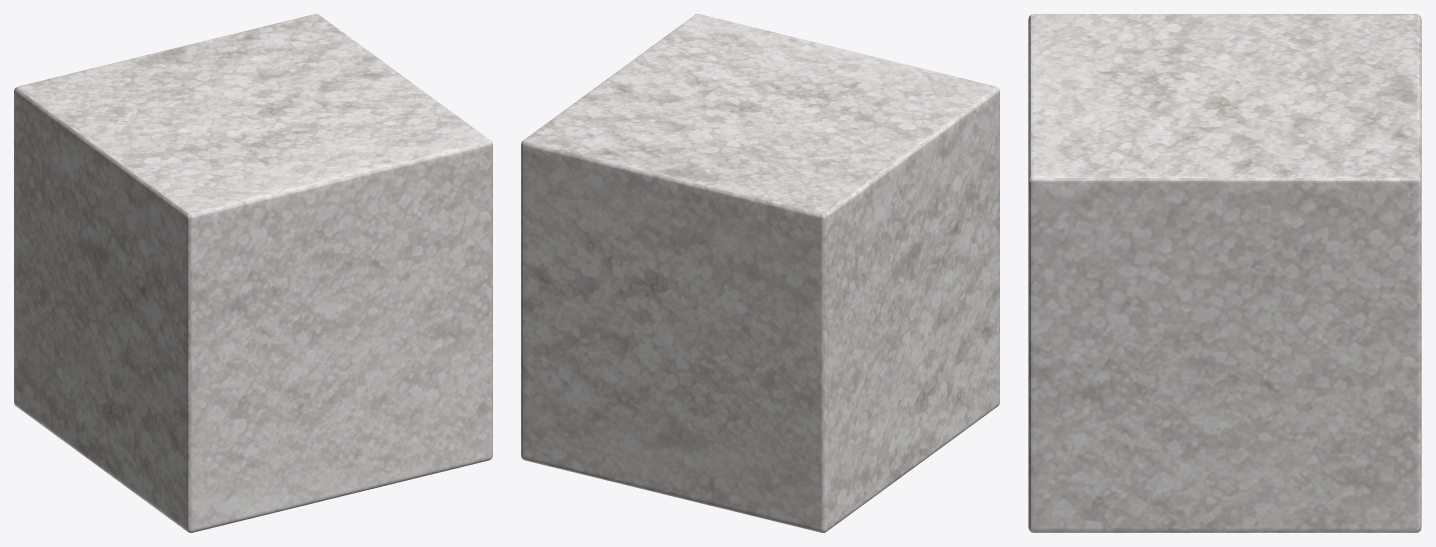
Rendered from Glucose.fbx.
The picture shows the model from 3 angles, left to right: view 1: azimuth 30°, elevation 25°; view 2: azimuth 150°, elevation 25°; view 3: azimuth 270°, elevation 25°; orthographic projection. The views are drawn at different scales.
Parts seen in each view (by area): view 1: Glucose; view 2: Glucose; view 3: Glucose.
Boxes of the visible parts, x1=… form: Glucose: x1=14, y1=14, x2=492, y2=532; Glucose: x1=521, y1=14, x2=999, y2=532; Glucose: x1=1028, y1=14, x2=1421, y2=532.
Bounding box in the file's own units: 1.51 × 1.51 × 1.51.
1 material, 1 textured.
